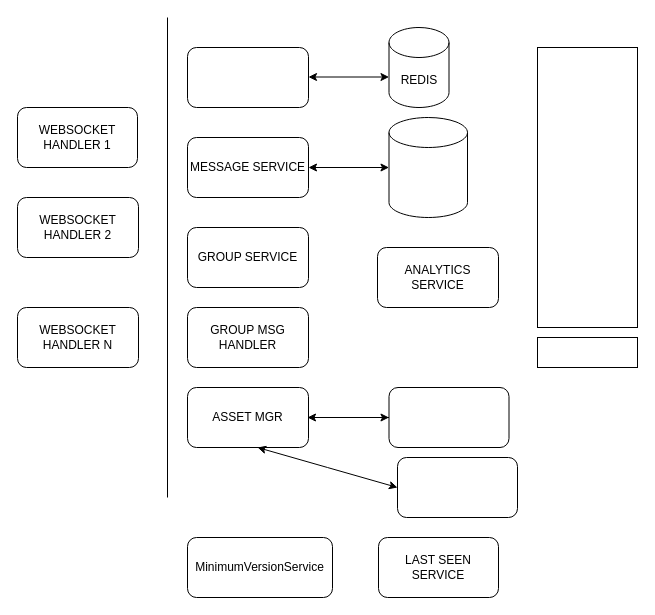
Image size: 655x615. Some labels were removed from this diagram. The centre of each missing label's shape, as x and y in pixels:
"CASSANDRA" goes at point (428, 167).
"CDN for videos" goes at point (457, 487).
"HADOOP" goes at point (587, 352).
"KAFKA" goes at point (587, 187).
"S3 for Images" goes at point (448, 417).
"WEBSOCKET MANAGER" goes at point (247, 77).
